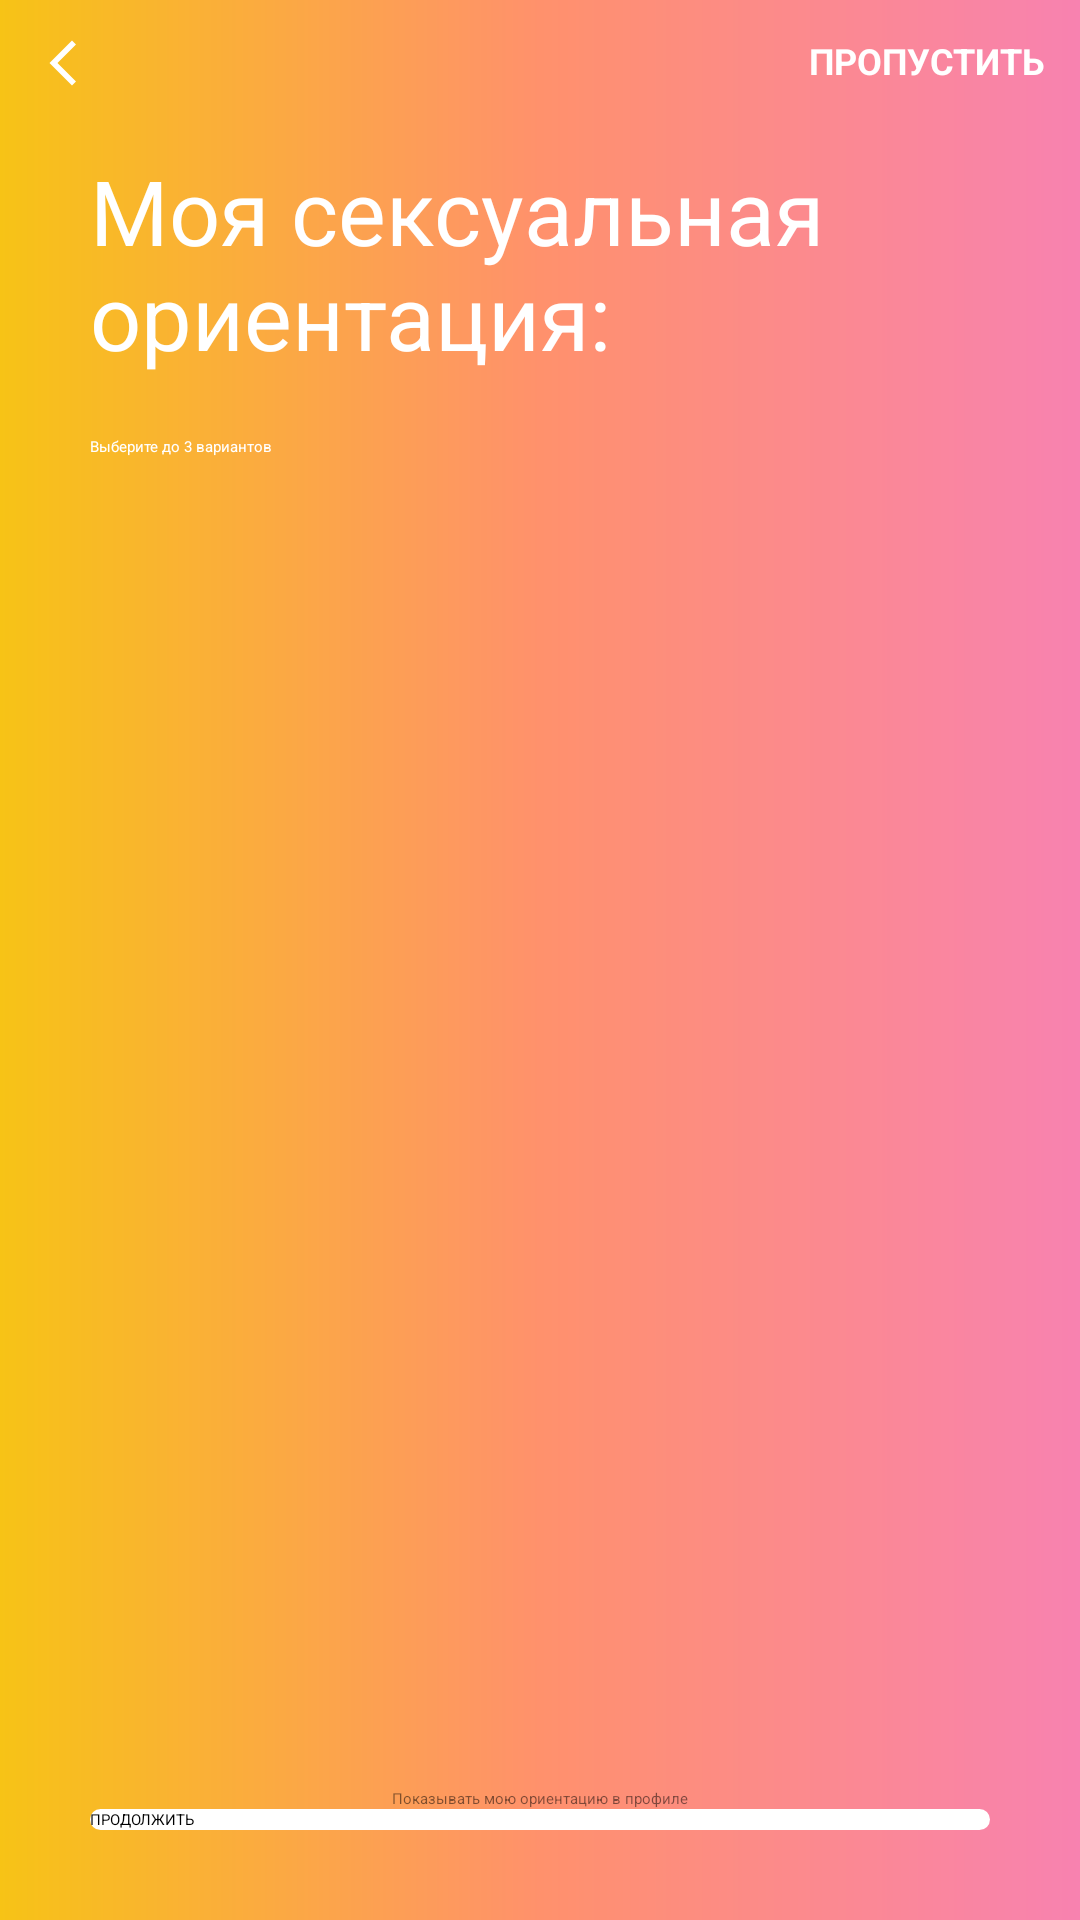

Named icons in this screenshot (1080 × 1920) and their bounding boxes, [x1, y1, x2, y2]:
back: [50, 40, 76, 86]
